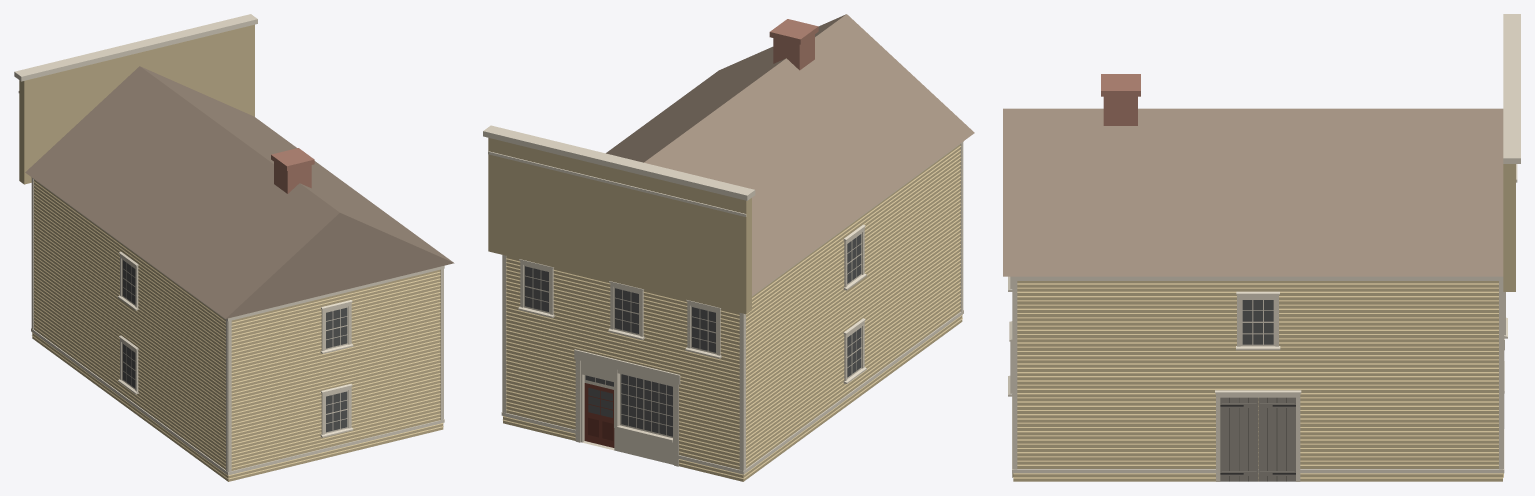
Rendered from recon_1835_gifford_c3_002__inferred_1835.glb.
The picture shows the model from 3 angles, left to right: view 1: azimuth 30°, elevation 25°; view 2: azimuth 150°, elevation 25°; view 3: azimuth 270°, elevation 25°; orthographic projection. The views are drawn at different scales.
Parts seen in each view (by area): view 1: recon_1835_gifford_c3_002__inferred_1835; view 2: recon_1835_gifford_c3_002__inferred_1835; view 3: recon_1835_gifford_c3_002__inferred_1835.
Part boxes in pixels (x1,y1,x2,y2): recon_1835_gifford_c3_002__inferred_1835: (14, 14, 454, 481); recon_1835_gifford_c3_002__inferred_1835: (483, 14, 974, 481); recon_1835_gifford_c3_002__inferred_1835: (1003, 14, 1520, 481).
Bounding box in the file's own units: 8.36 × 9.02 × 12.69.
